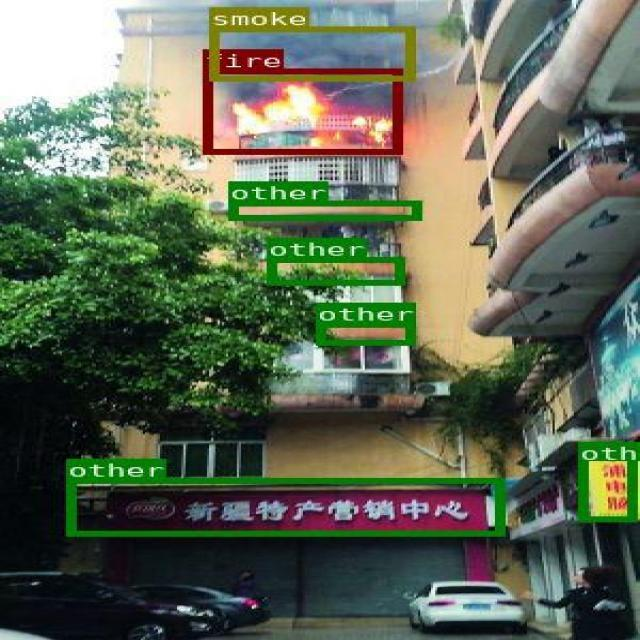fire: (201, 68, 401, 154)
smoke: (208, 26, 413, 79)
